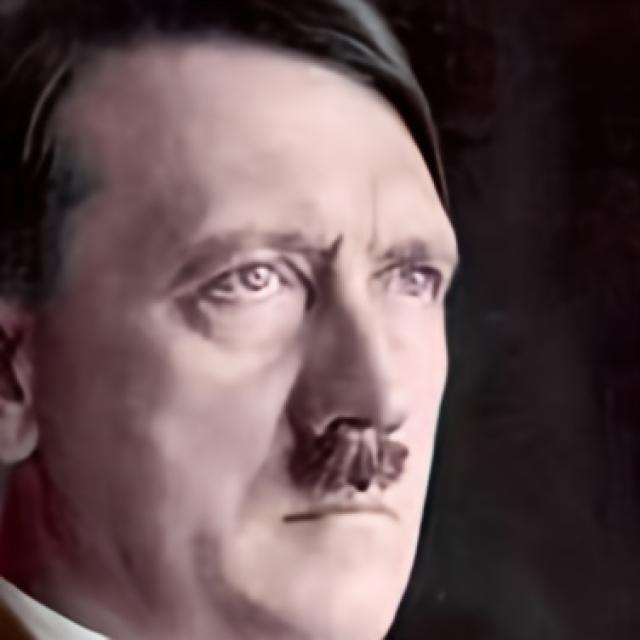anger: (44, 63, 451, 637)
